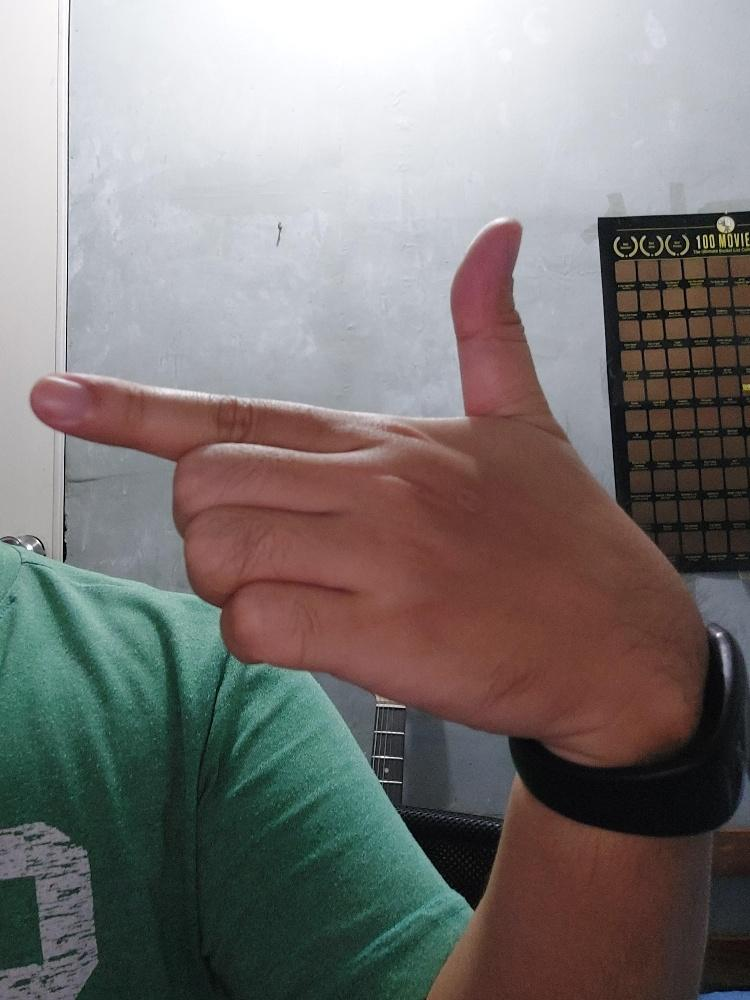g: (30, 215, 654, 759)
